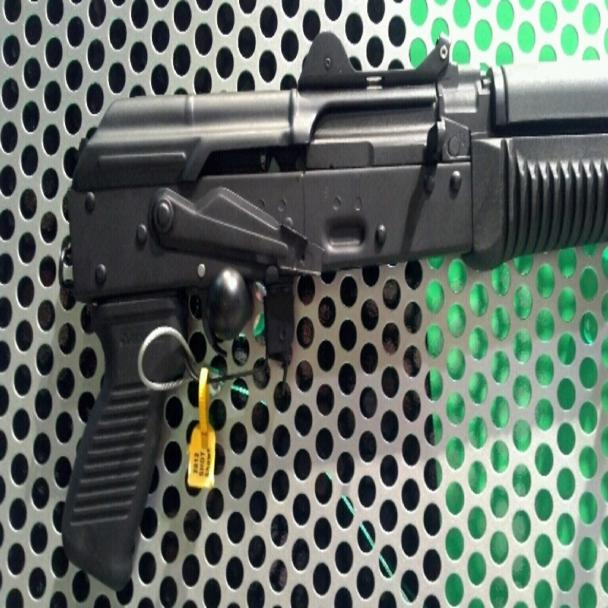Gun: (63, 66, 607, 583)
